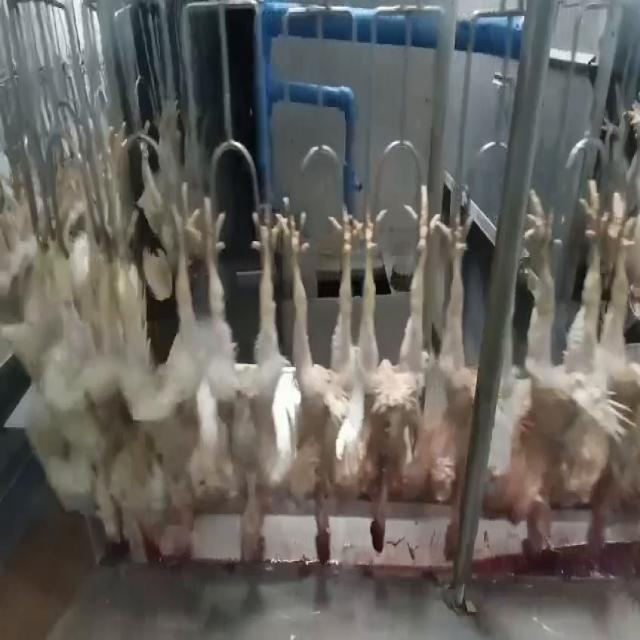chicken: (496, 168, 600, 562), (353, 180, 436, 558), (201, 194, 276, 571), (286, 203, 358, 572), (75, 143, 137, 548), (138, 175, 196, 568), (6, 184, 74, 504), (419, 179, 480, 502), (602, 184, 639, 516)
